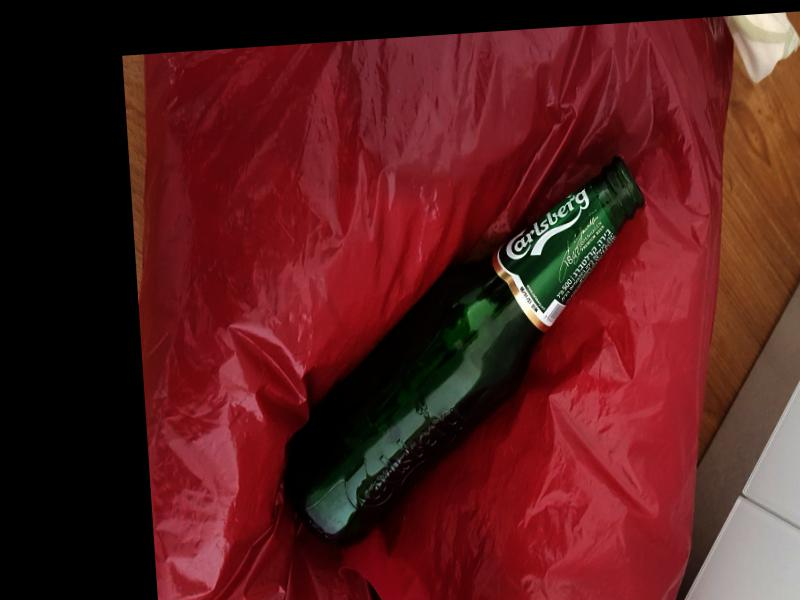Beer: (266, 154, 664, 545)
